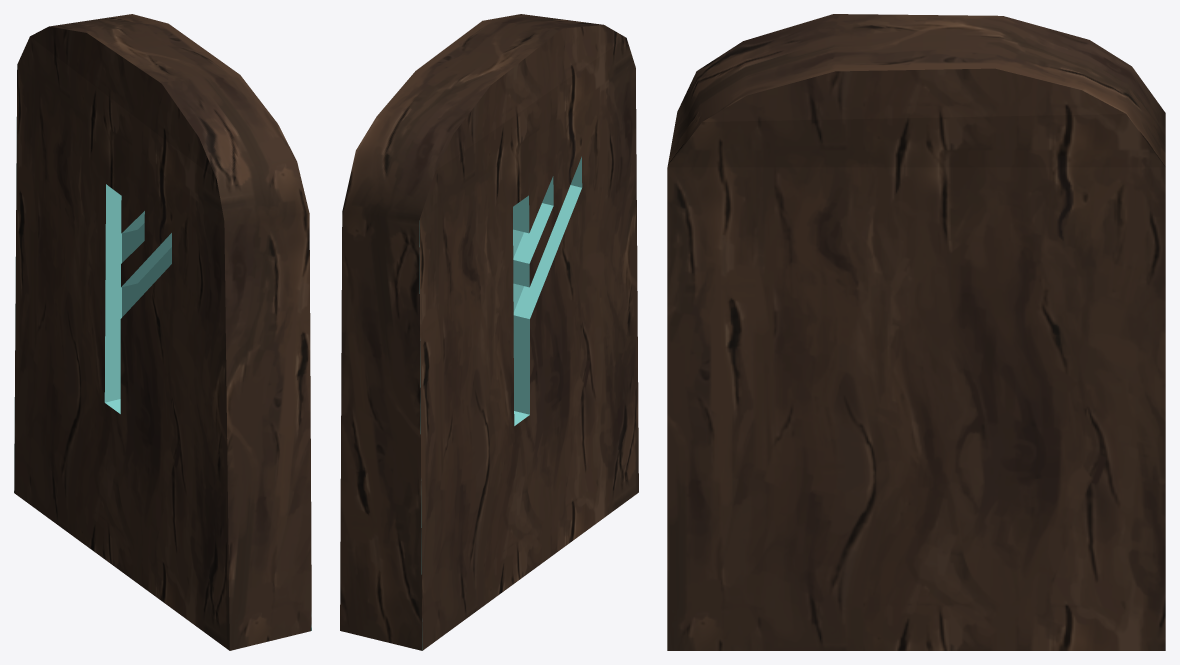
File: Door 7.fbx
3 renders of one model, left to right at view 1: azimuth 30°, elevation 25°; view 2: azimuth 150°, elevation 25°; view 3: azimuth 270°, elevation 25°, orthographic. The views are drawn at different scales.
Parts seen in each view (by area): view 1: Door_7; view 2: Door_7; view 3: Door_7.
Boxes of the visible parts, x1,y1,x2,y2 form: Door_7: (14,14,311,650); Door_7: (340,14,638,650); Door_7: (667,14,1165,650).
Bounding box in the file's own units: 0.7182 × 4.18 × 3.18.
